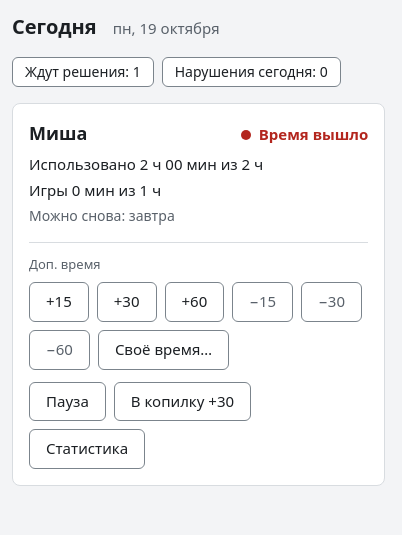
Scenario: Today: добавить время › возвращает из «Время вышло»: статус обновляется по ответу службы
Expected: the text "Время вышло" is shown, [241,124,368,145]
Click the button "+30" at (127,302), box [97,282,157,322]
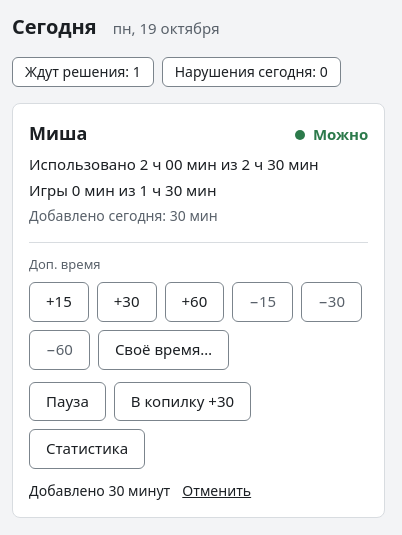
Result: the text "Можно" is shown at [295,124,368,145]
